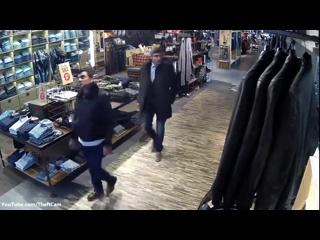Normal: (72, 66, 119, 202), (136, 46, 178, 163)
